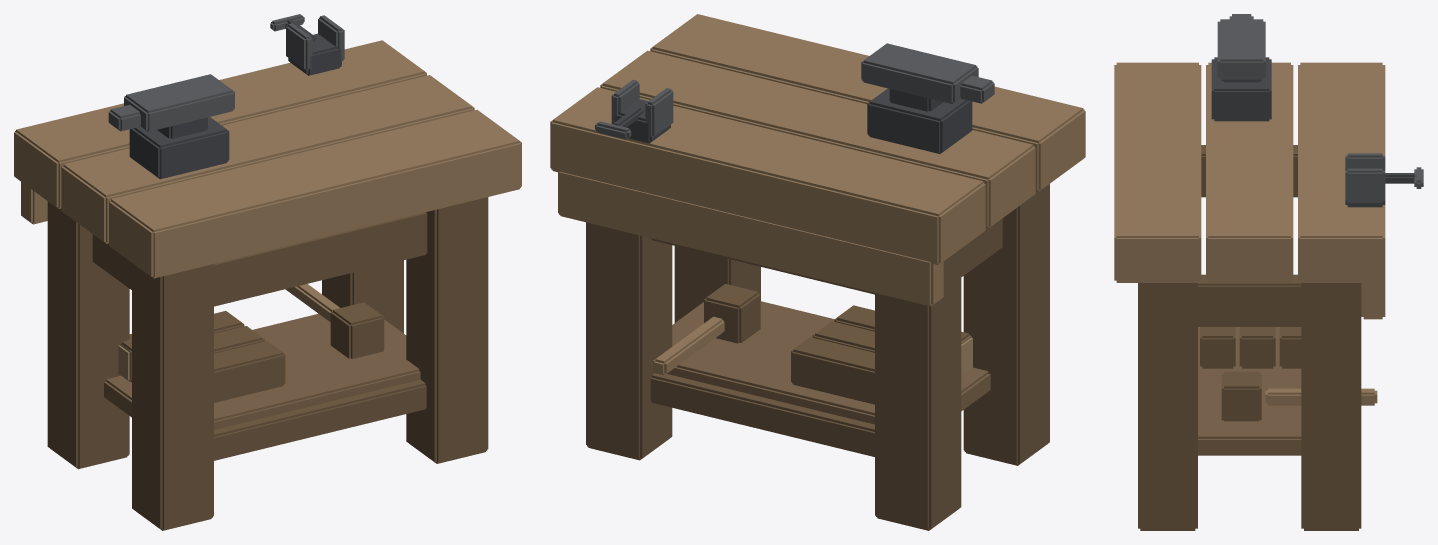
3 views of the same model, side by side, from view 1: azimuth 30°, elevation 25°; view 2: azimuth 150°, elevation 25°; view 3: azimuth 270°, elevation 25° (orthographic). The views are drawn at different scales.
Visible parts, largest first — view 1: workbench_t2; view 2: workbench_t2; view 3: workbench_t2.
Boxes of the visible parts, box(x1,y1,x2,y2) form: workbench_t2: box(14, 14, 521, 530); workbench_t2: box(550, 14, 1085, 530); workbench_t2: box(1114, 14, 1423, 530).
Size of the model in its own units: 1.04 by 1.03 by 0.777.
